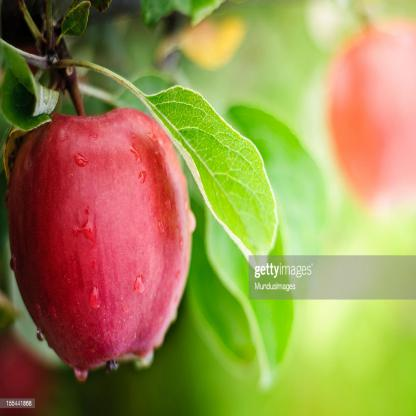Apple: (9, 85, 208, 370)
